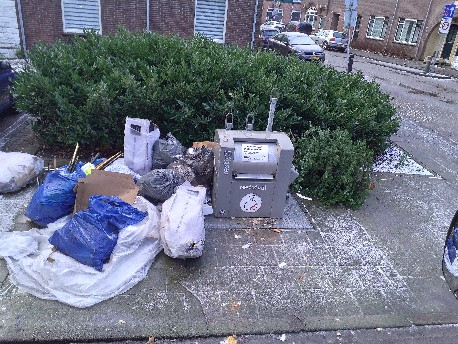Container: (220, 134, 305, 231)
Plastic: (0, 228, 105, 297), (124, 218, 155, 290)
Rest: (31, 172, 82, 230), (68, 213, 115, 265), (168, 192, 202, 250), (145, 131, 191, 169), (132, 118, 161, 172), (182, 151, 216, 185), (131, 171, 174, 196)
